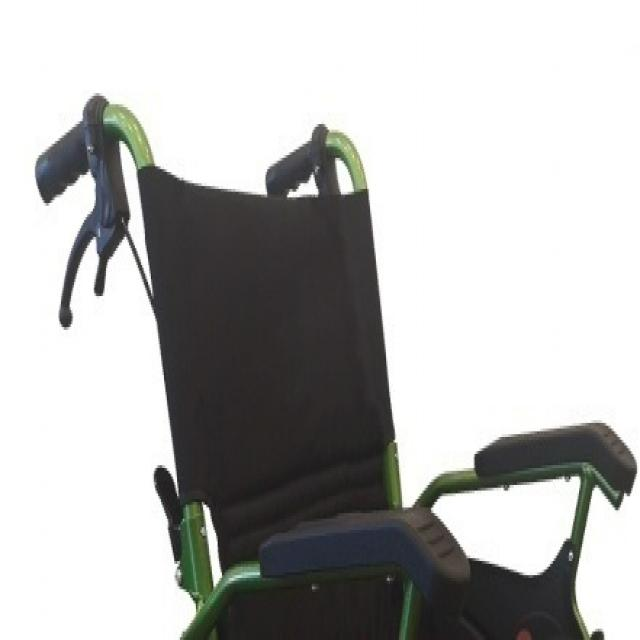wheelchair: (26, 84, 639, 640)
